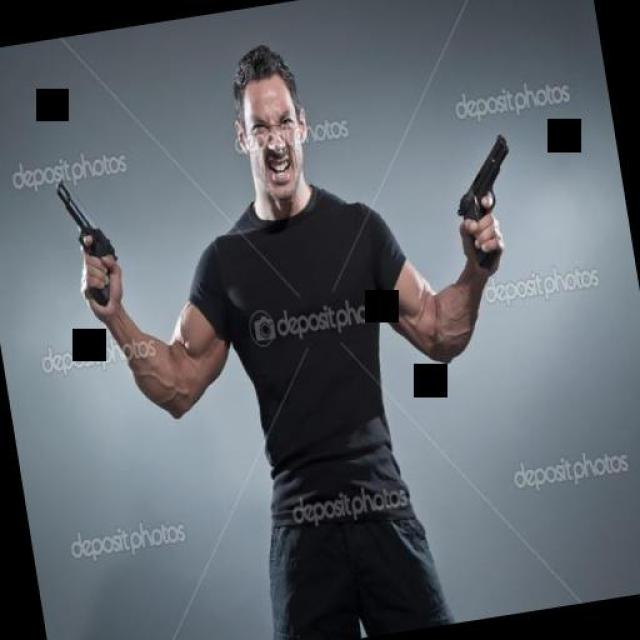gun: (438, 111, 528, 264), (51, 172, 135, 332)
